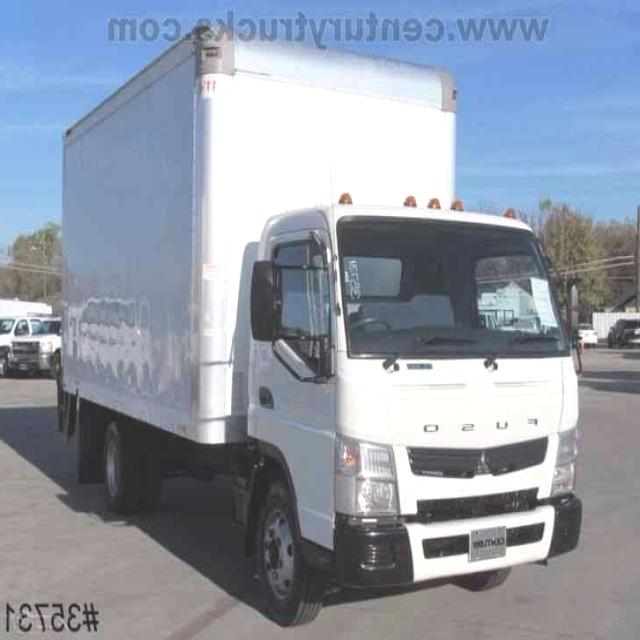truck: (63, 15, 593, 625)
